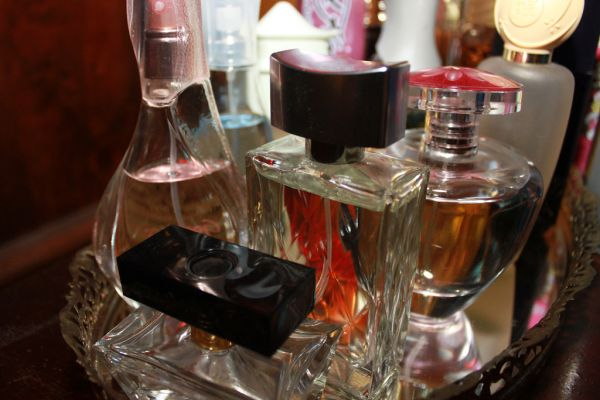unknown_bottle: (474, 1, 586, 361), (203, 1, 272, 178)
